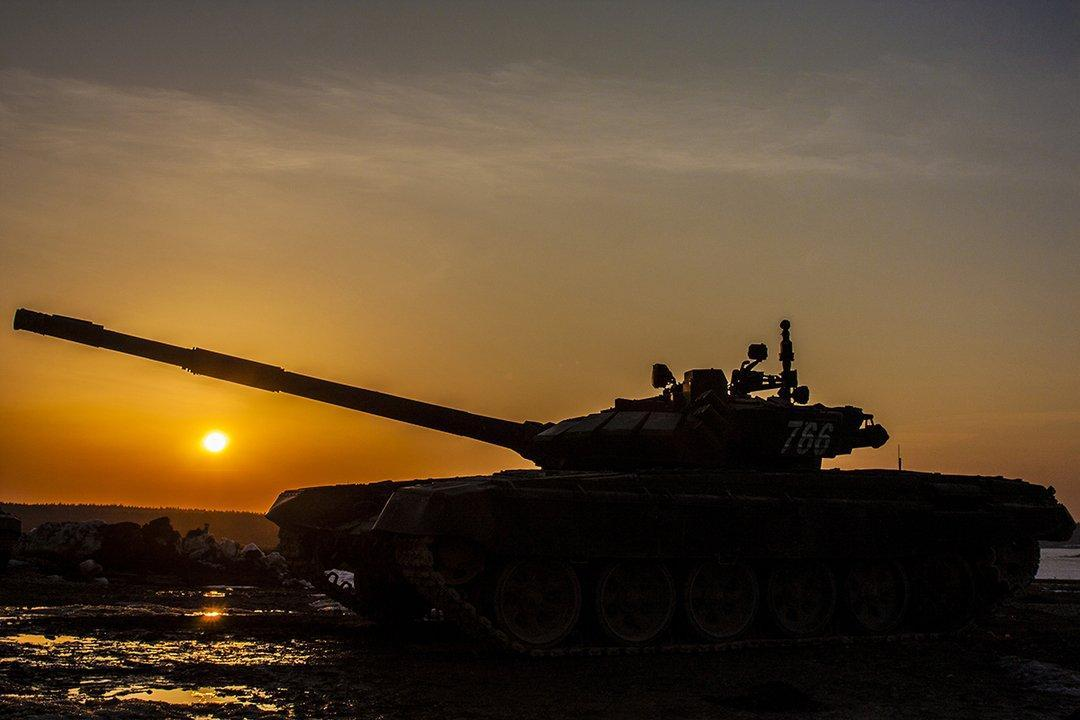tank: (12, 306, 1080, 663)
